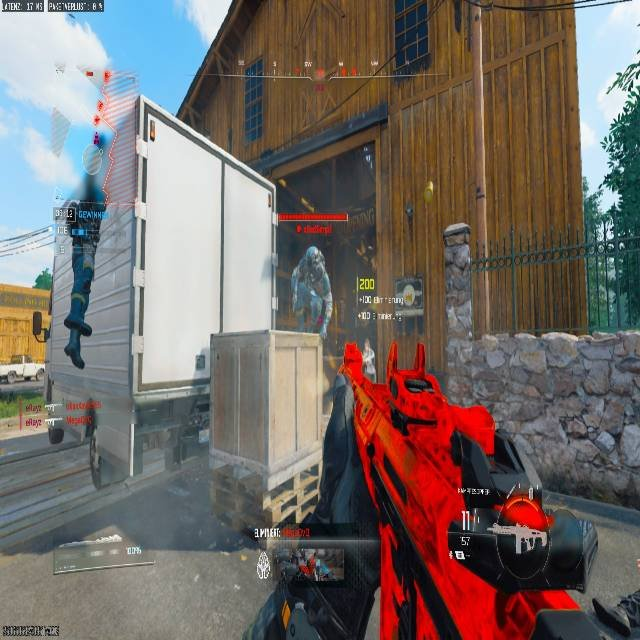head: (306, 245, 318, 259), (42, 265, 51, 274)
player: (43, 91, 109, 370), (441, 224, 475, 324), (296, 245, 331, 330), (32, 265, 53, 341)
